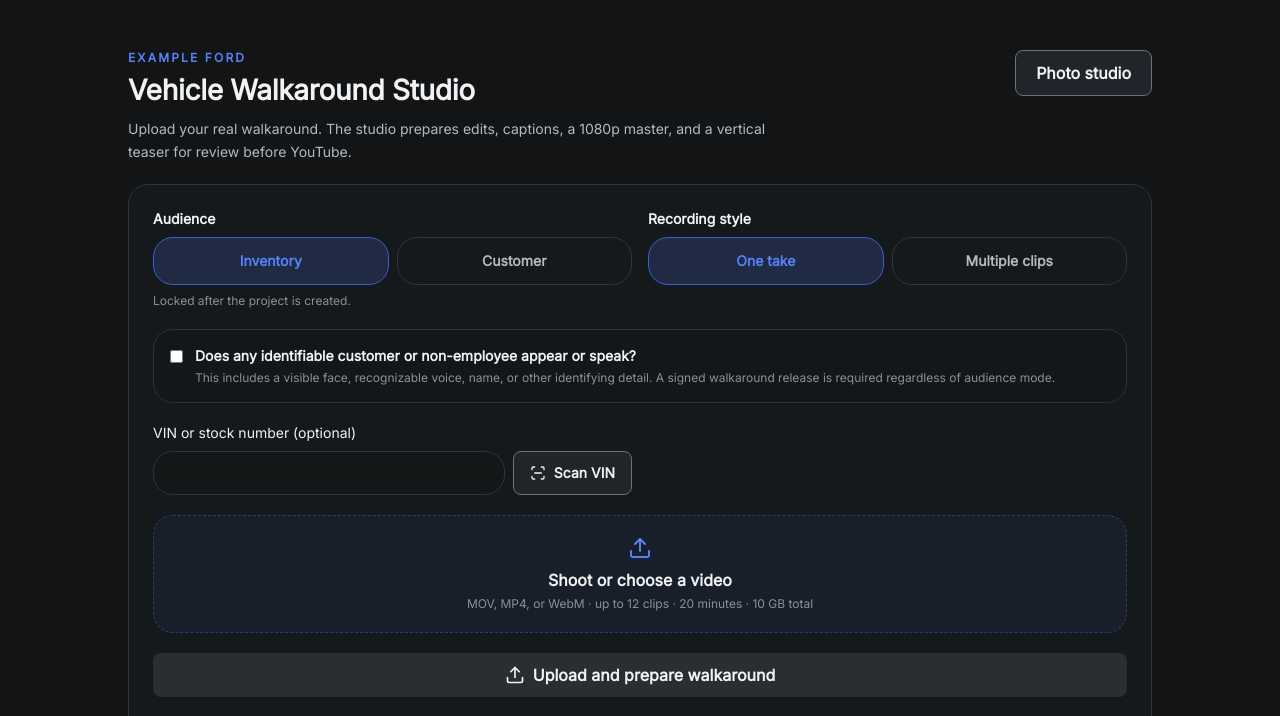
Test: WalkaroundStudio › shows separate capture choices and locks customer processing behind release proof
This screenshot has width=1280, height=716.
(page scrolled)
Expected: the heading "Vehicle Walkaround Studio" is shown, [128,73,475,107]
Expected: the button "Multiple clips" is shown, [892,236,1127,284]
Step 1. Click the checkbox labelled "Does any identifiable customer or non-employee appear or speak" → (176, 356), box [170,350,183,362]
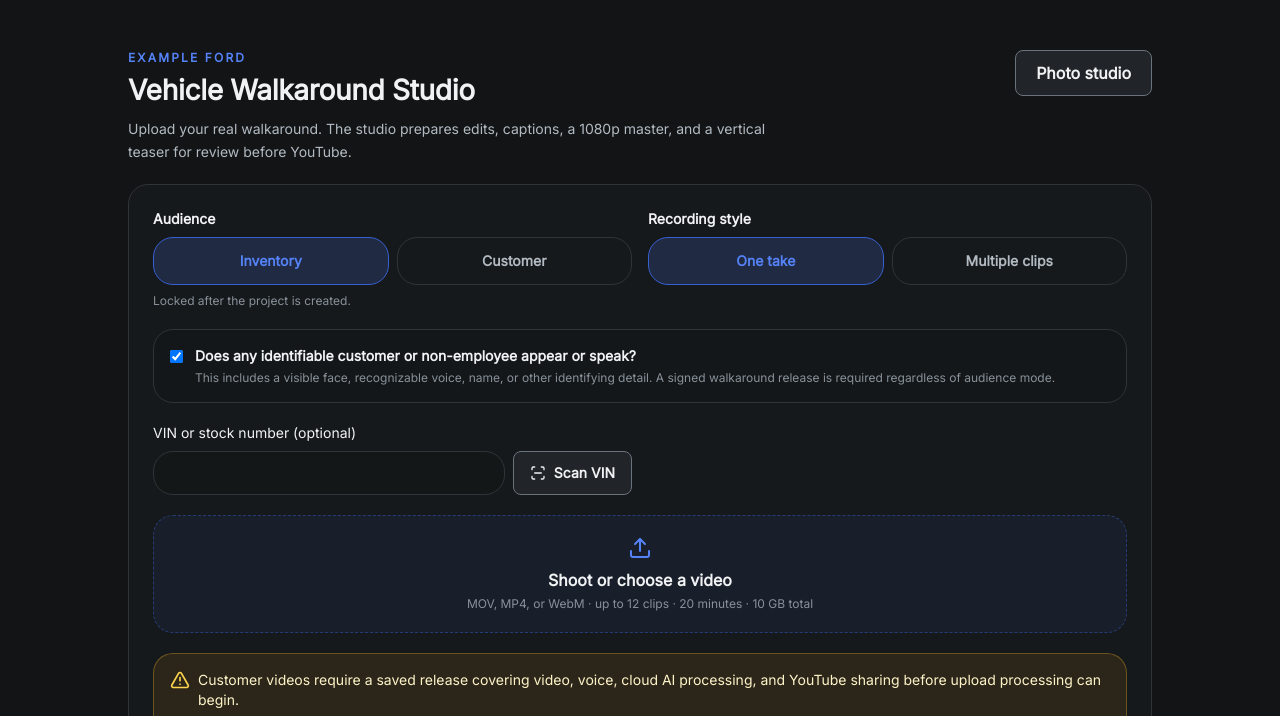
Step 2. Click the button "customer" → (514, 260), box [396,236,632,284]
(page scrolled)
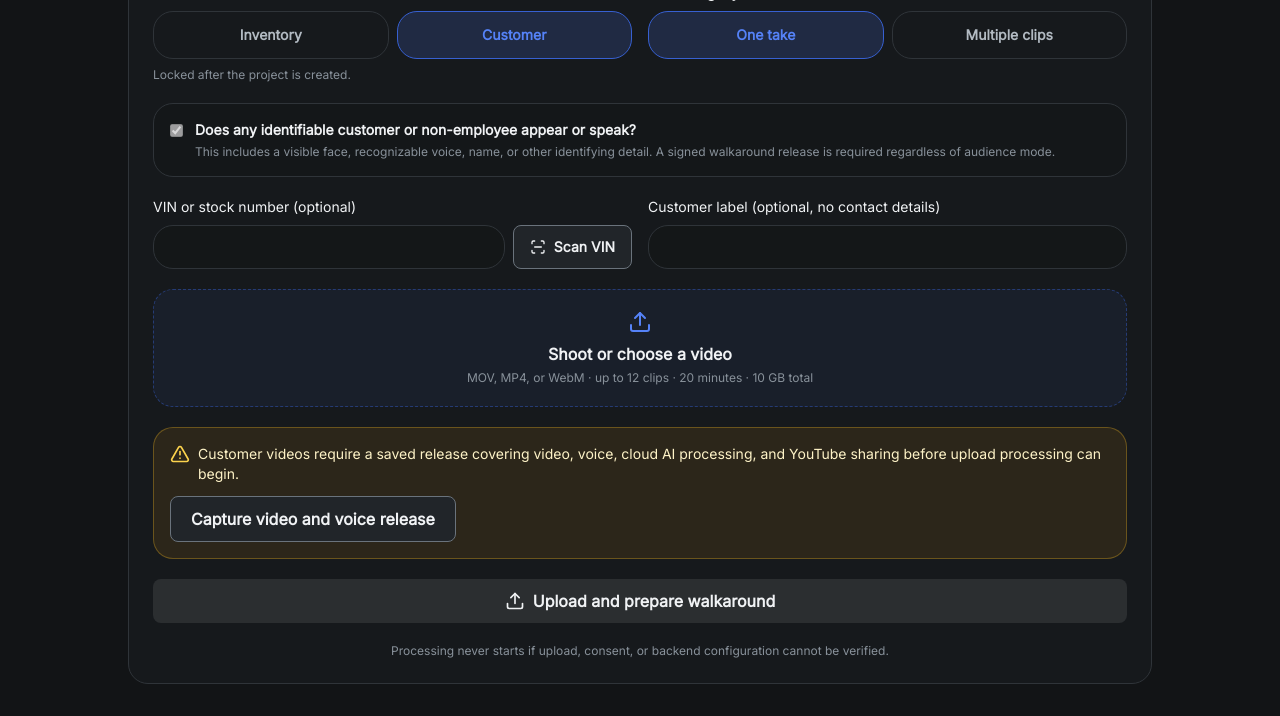
Expected: the text "require a saved release" is shown, [198,444,1101,482]
Step 3. Click the button "Capture video and voice release" → (313, 518), box [170,496,456,542]
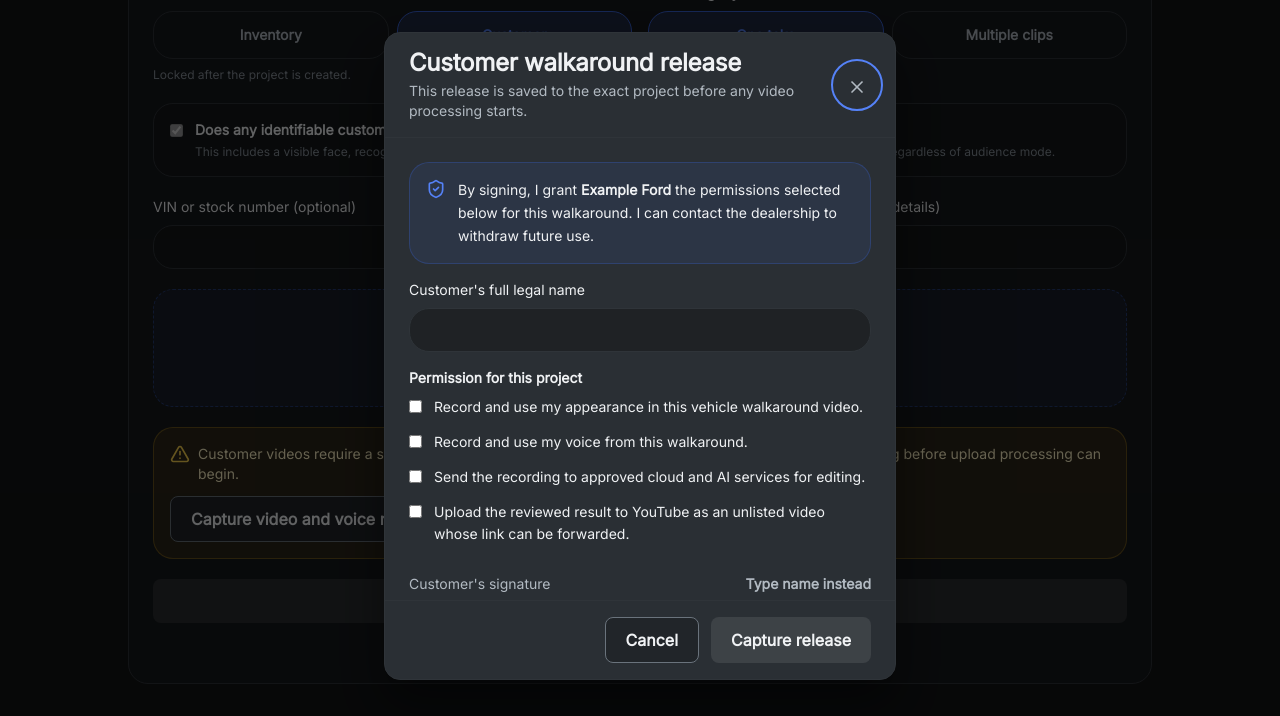
Expected: the dialog "Customer walkaround release" is shown, [384,32,896,680]
Expected: the text "approved cloud and AI services" is shown, [434,468,865,485]
Expected: the text "unlisted video whose link can be forwarded" is shown, [434,502,825,542]
